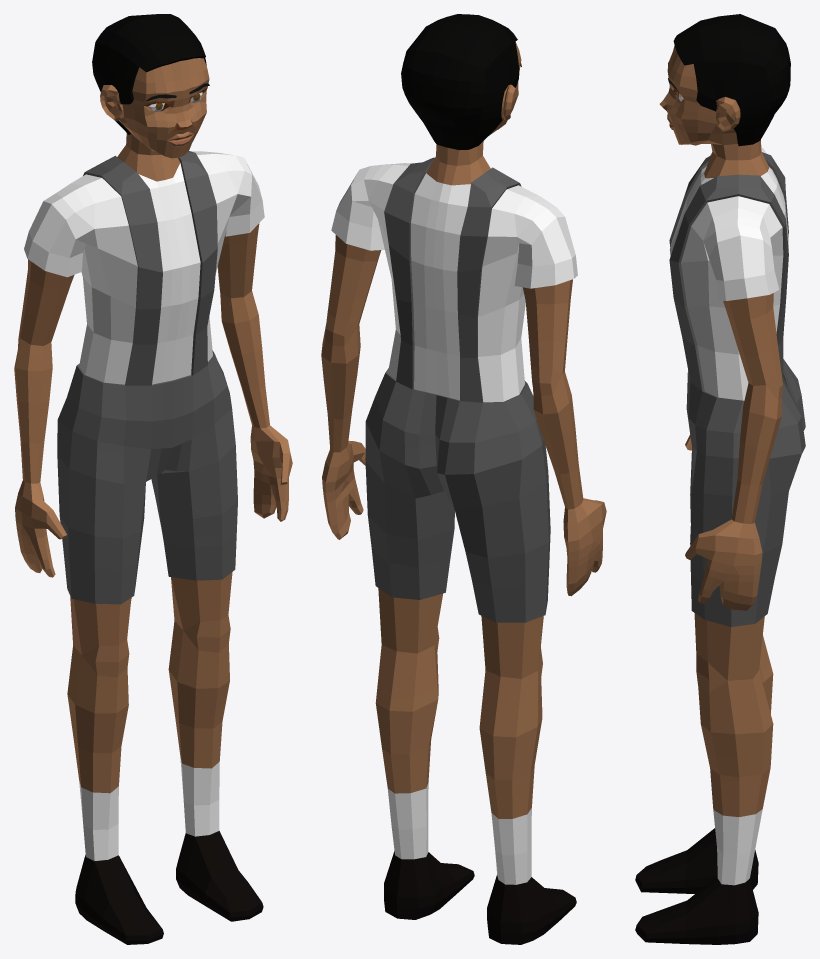
Rendered from Child_A_Stand.fbx.
3 renders of one model, left to right at view 1: azimuth 30°, elevation 25°; view 2: azimuth 150°, elevation 25°; view 3: azimuth 270°, elevation 25°, orthographic. The views are drawn at different scales.
Visible parts, largest first — view 1: Child_A_Stand; view 2: Child_A_Stand; view 3: Child_A_Stand.
Part boxes in pixels (x1,y1,x2,y2): Child_A_Stand: (14, 14, 292, 944); Child_A_Stand: (321, 14, 606, 944); Child_A_Stand: (635, 14, 805, 944).
Bounding box in the file's own units: 0.1752 × 0.5715 × 0.0995.
